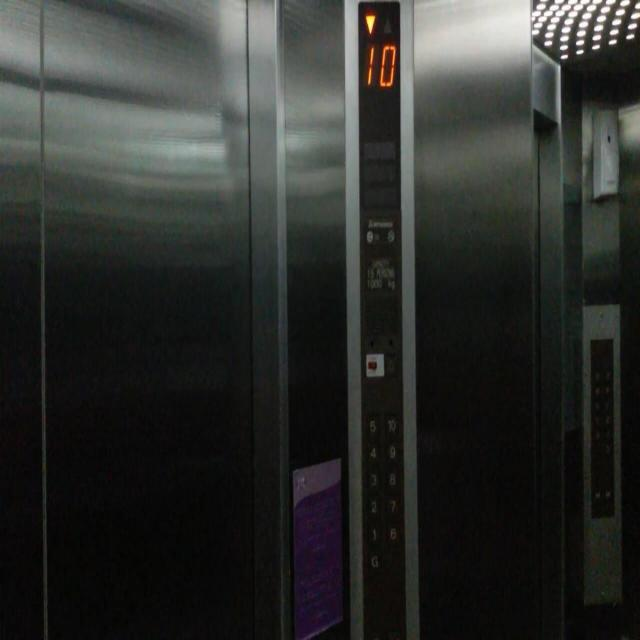1: (366, 524, 382, 544)
10: (383, 412, 401, 436)
2: (366, 495, 382, 516)
3: (366, 466, 382, 488)
4: (365, 439, 381, 461)
5: (364, 412, 381, 437)
6: (384, 523, 400, 543)
7: (384, 495, 400, 516)
8: (384, 468, 400, 489)
9: (384, 439, 400, 461)
G: (367, 551, 383, 572)
alarm: (385, 351, 397, 377)
led: (356, 0, 402, 104)
switch: (364, 352, 384, 378)
